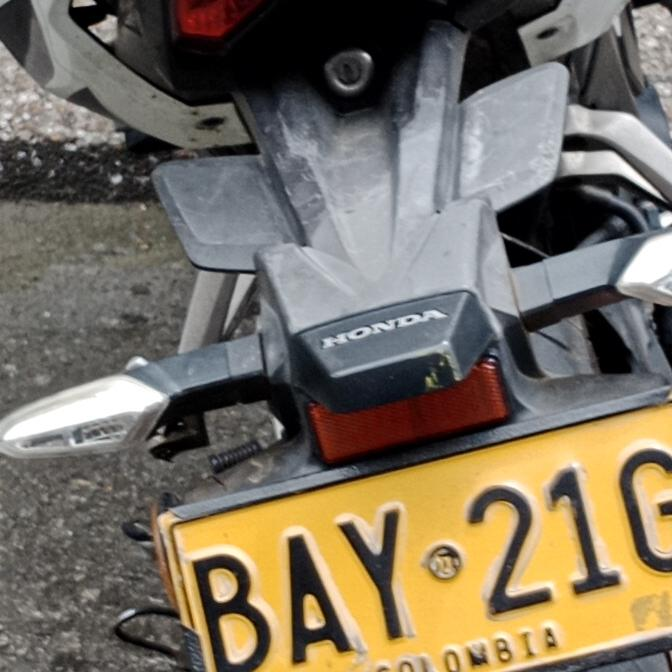plates: (156, 393, 672, 672)
